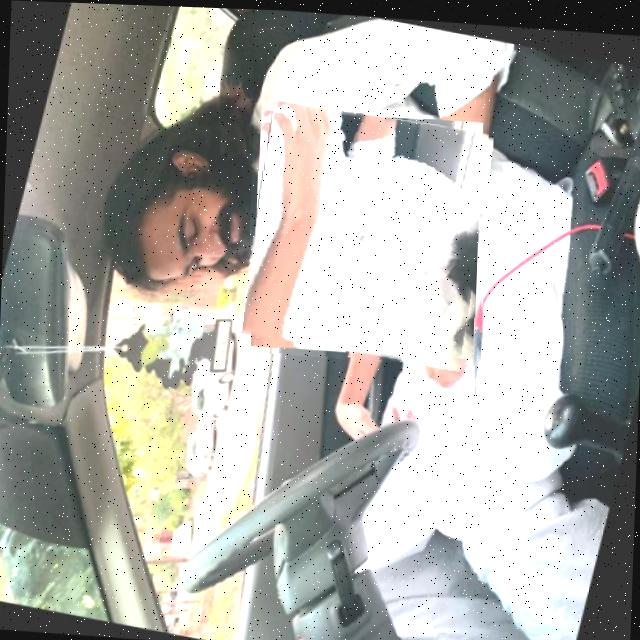no-seatbelt: (245, 99, 489, 364)
